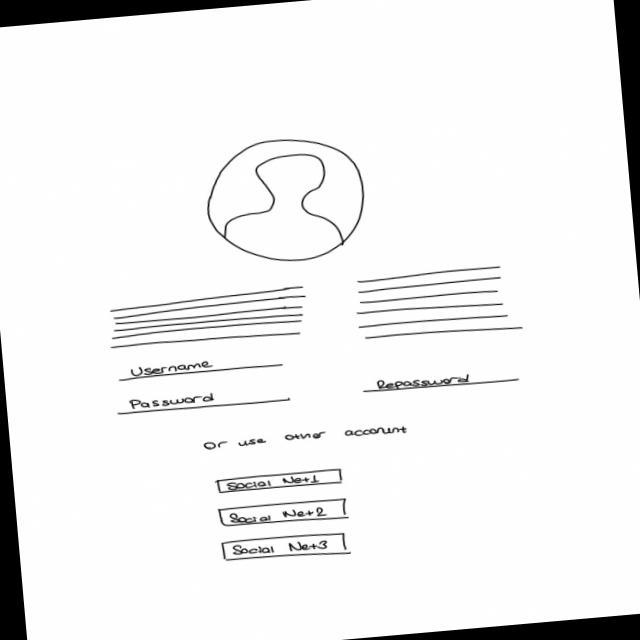button: (220, 530, 355, 568), (218, 497, 352, 531), (216, 468, 346, 496)
image: (201, 132, 372, 271)
input: (115, 385, 293, 418), (115, 353, 285, 383), (360, 366, 522, 397)
label: (202, 421, 413, 454)
textbox: (105, 283, 312, 354), (352, 263, 526, 345)
